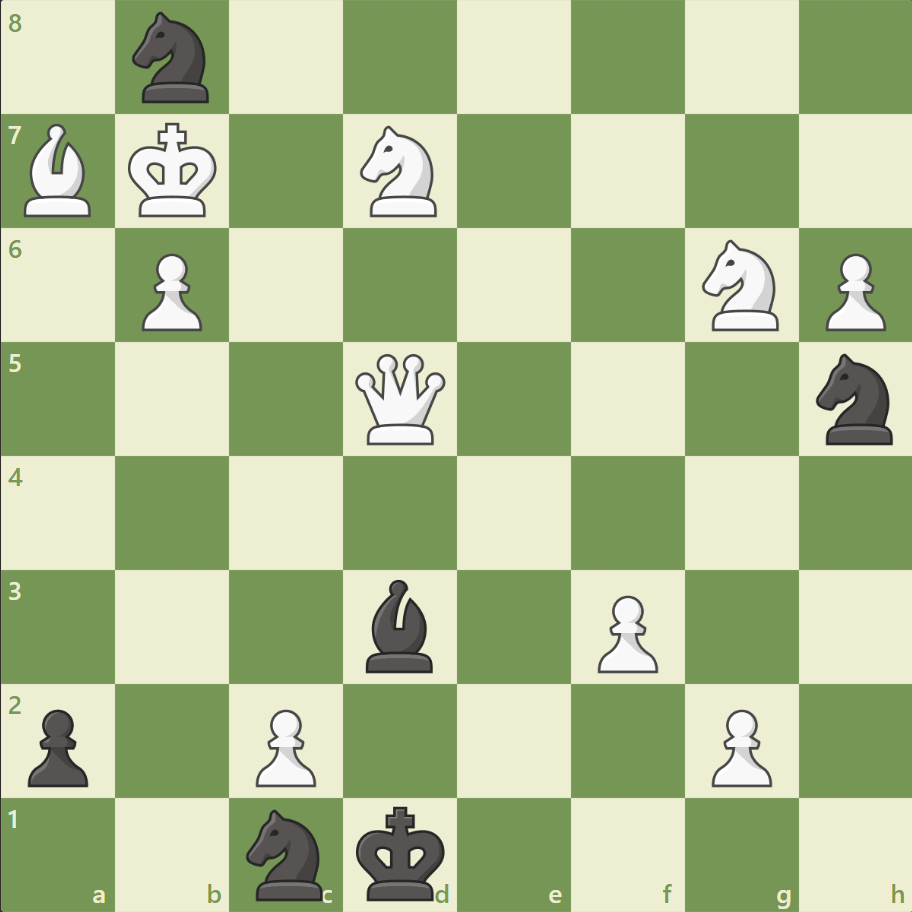B: (17, 120, 101, 222)
K: (124, 117, 224, 225)
N: (351, 121, 449, 223), (692, 234, 789, 337)
P: (133, 246, 208, 337), (247, 700, 322, 791), (701, 700, 776, 791), (815, 246, 889, 337), (588, 586, 662, 677)
Q: (351, 349, 450, 449)
b: (358, 574, 442, 676)
k: (351, 798, 451, 906)
n: (124, 7, 222, 110), (806, 348, 903, 450), (238, 802, 335, 904)
p: (20, 700, 95, 791)
